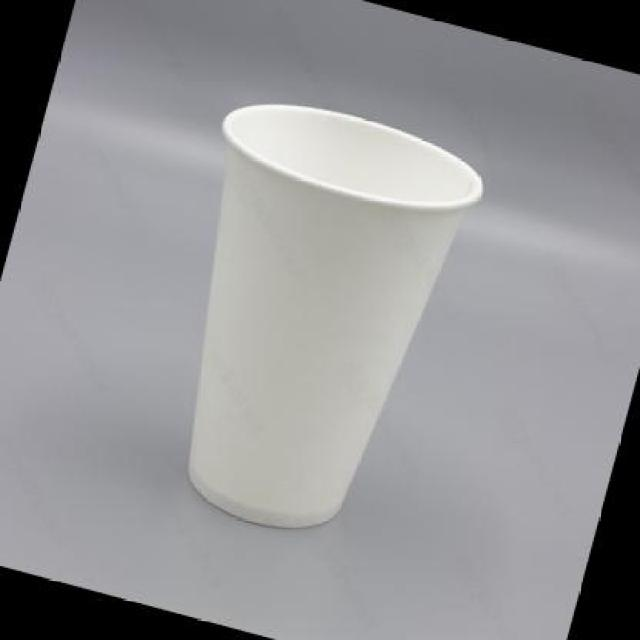non-biodegradable: (136, 81, 501, 553)
